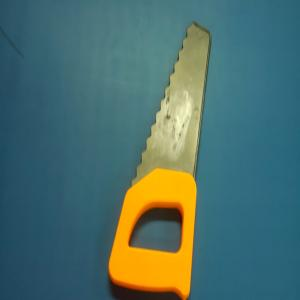serrote: (108, 19, 212, 300)
